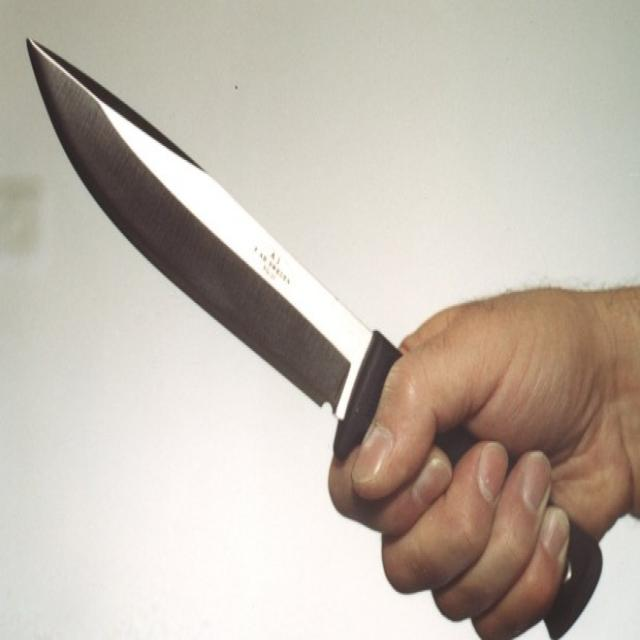knife: (24, 32, 605, 640)
